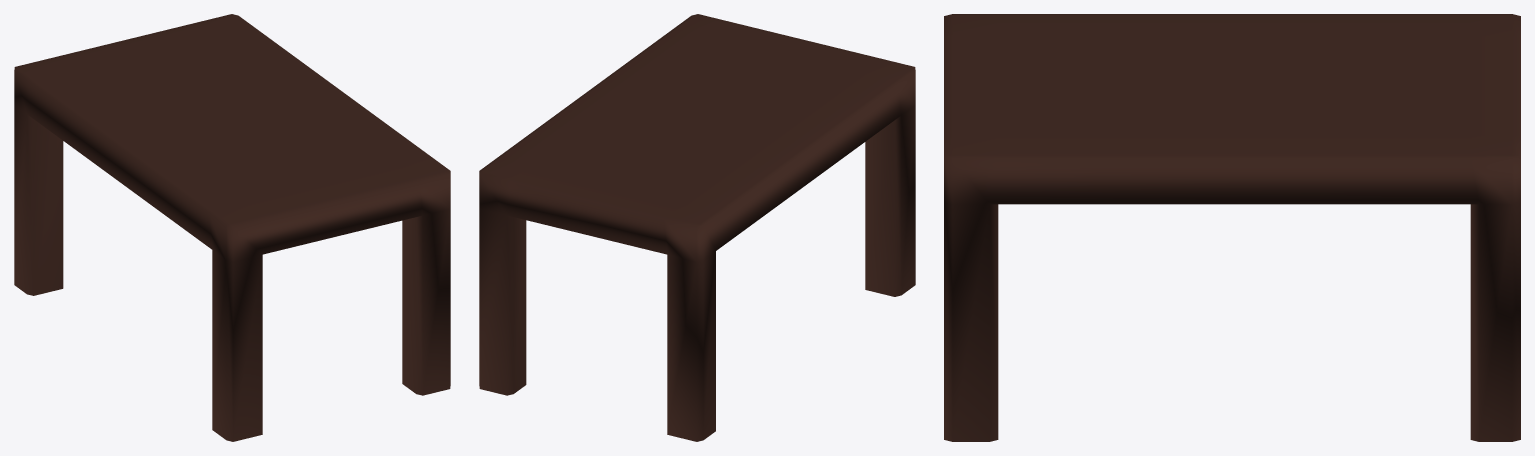
File: table.fbx
3 views of the same model, side by side, from view 1: azimuth 30°, elevation 25°; view 2: azimuth 150°, elevation 25°; view 3: azimuth 270°, elevation 25° (orthographic). The views are drawn at different scales.
Parts seen in each view (by area): view 1: table; view 2: table; view 3: table.
Boxes of the visible parts, x1,y1,x2,y2 form: table: [14, 14, 450, 441]; table: [479, 14, 915, 441]; table: [944, 14, 1520, 441].
Bounding box in the file's own units: 103 × 94.92 × 174.
